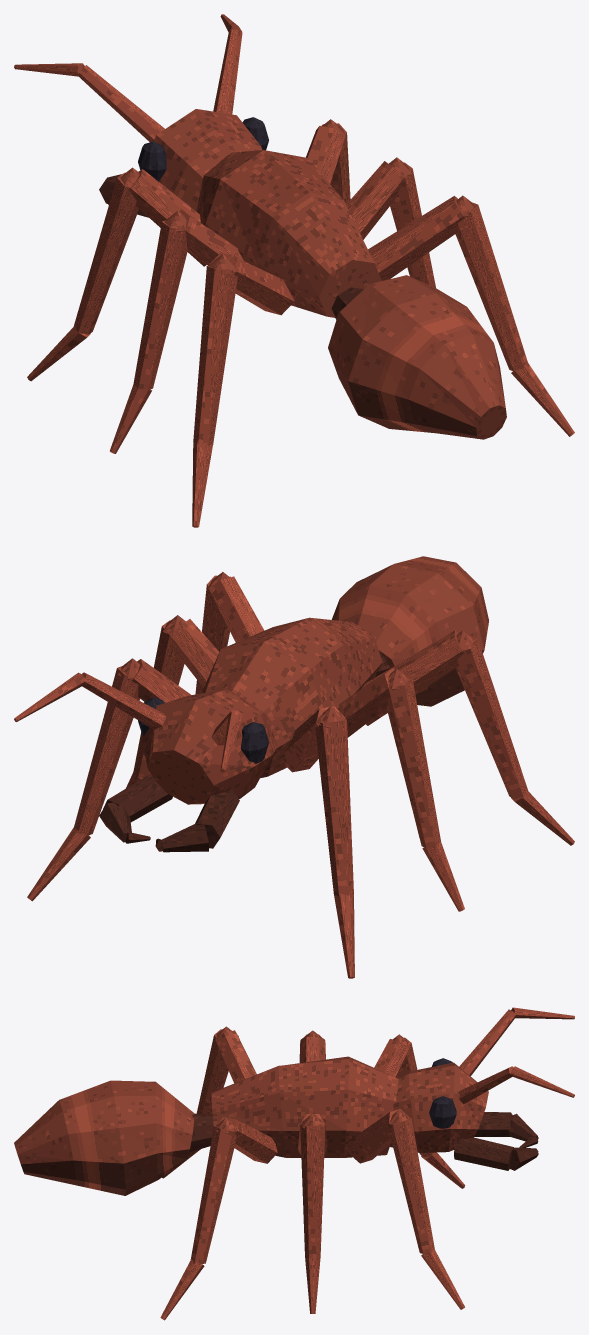
The model's file is mon_ant.glb.
3 renders of one model, top to bottom at view 1: azimuth 30°, elevation 25°; view 2: azimuth 150°, elevation 25°; view 3: azimuth 270°, elevation 25°, orthographic. The views are drawn at different scales.
Parts seen in each view (by area): view 1: closed_body; view 2: closed_body; view 3: closed_body.
Boxes of the visible parts, box(x1,y1,x2,y2) form: closed_body: box(14, 14, 574, 527); closed_body: box(14, 556, 574, 978); closed_body: box(14, 1007, 574, 1320).
Size of the model in its own units: 1.26 by 0.8597 by 2.07.
1 material, 1 textured.
